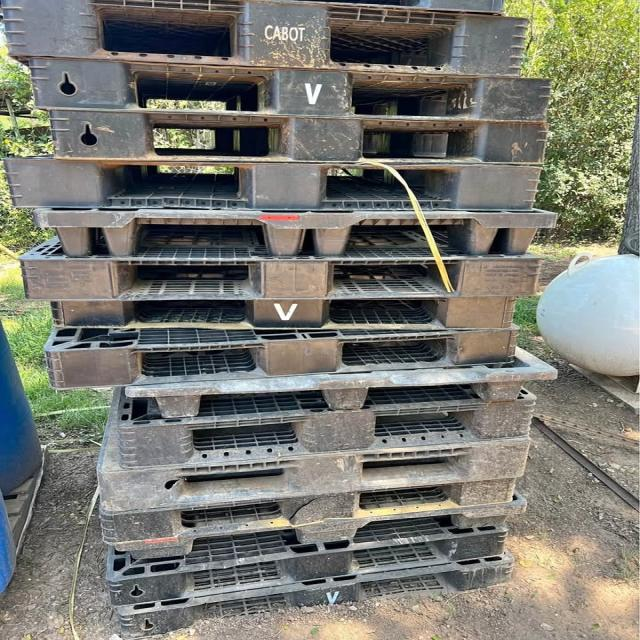non-igps: (14, 45, 560, 134), (0, 0, 539, 88), (112, 380, 543, 477), (38, 317, 528, 399), (39, 96, 556, 172), (92, 432, 538, 518), (101, 518, 514, 610), (109, 548, 519, 640), (120, 339, 563, 424), (0, 149, 548, 216), (96, 468, 520, 550), (13, 243, 554, 305), (111, 486, 534, 564), (26, 203, 565, 263), (44, 290, 526, 337), (81, 0, 514, 25)
